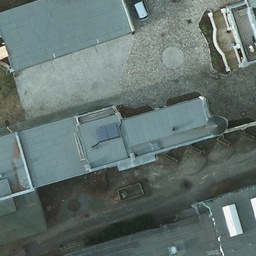car: (127, 0, 148, 21), (161, 0, 183, 5)
